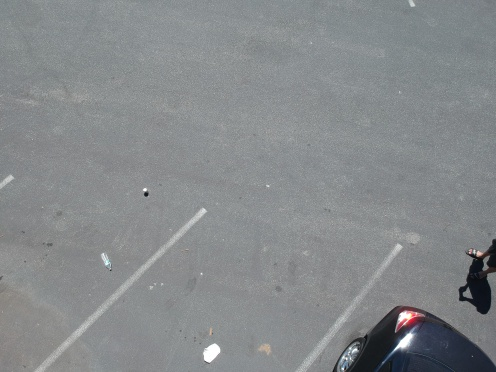bottle: (98, 248, 117, 273)
can: (140, 185, 150, 195)
plastic bag: (198, 336, 223, 365)
